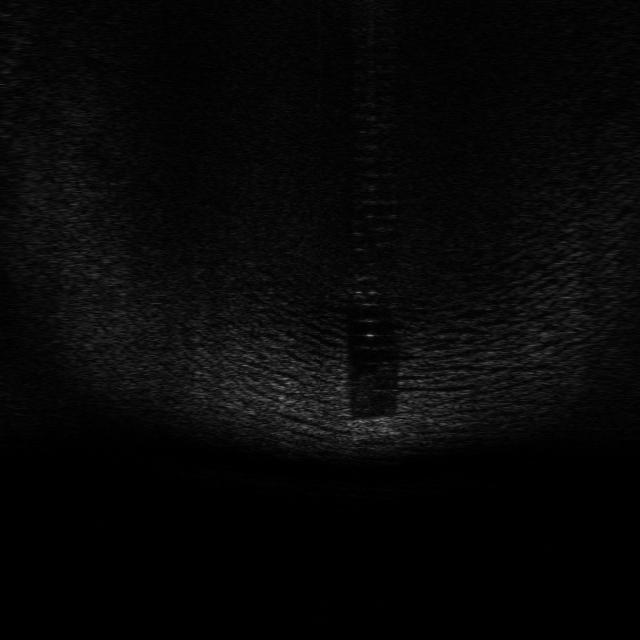cube: (348, 416, 402, 441)
